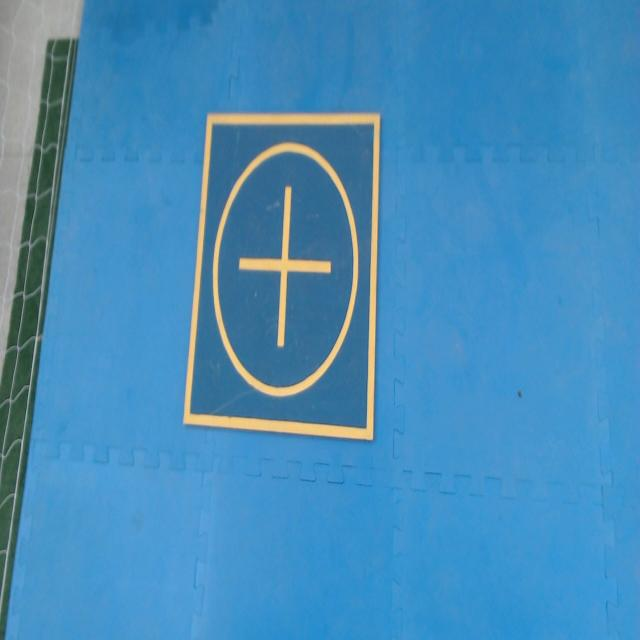base_pouso: (182, 113, 382, 445)
